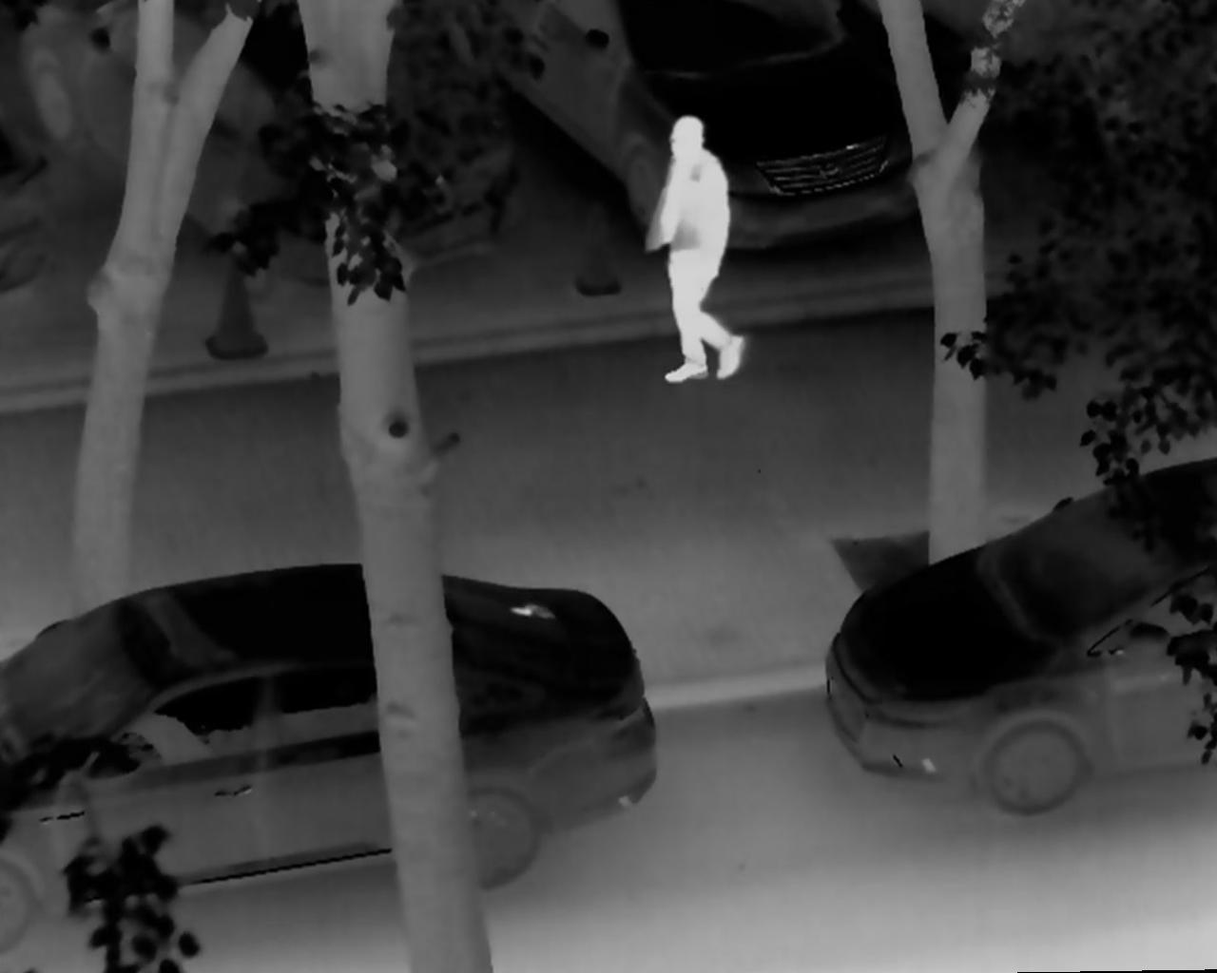person: (636, 108, 751, 388)
